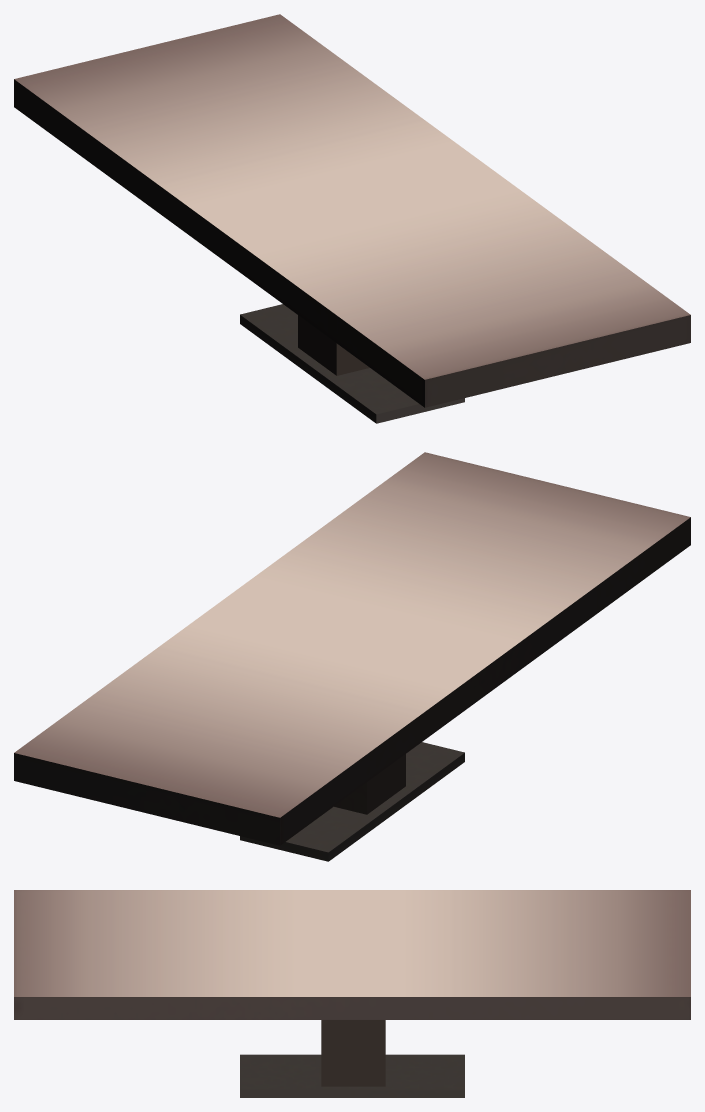
The model's file is Tx_props_medical_table.fbx.
The picture shows the model from 3 angles, top to bottom: view 1: azimuth 30°, elevation 25°; view 2: azimuth 150°, elevation 25°; view 3: azimuth 270°, elevation 25°; orthographic projection. The views are drawn at different scales.
Parts seen in each view (by area): view 1: Tx_props_medical_table; view 2: Tx_props_medical_table; view 3: Tx_props_medical_table.
Boxes of the visible parts, bbox=[...] form: Tx_props_medical_table: bbox=[14, 14, 690, 423]; Tx_props_medical_table: bbox=[14, 452, 690, 861]; Tx_props_medical_table: bbox=[14, 890, 690, 1097].
Bounding box in the file's own units: 5.58 × 3.32 × 14.92.
